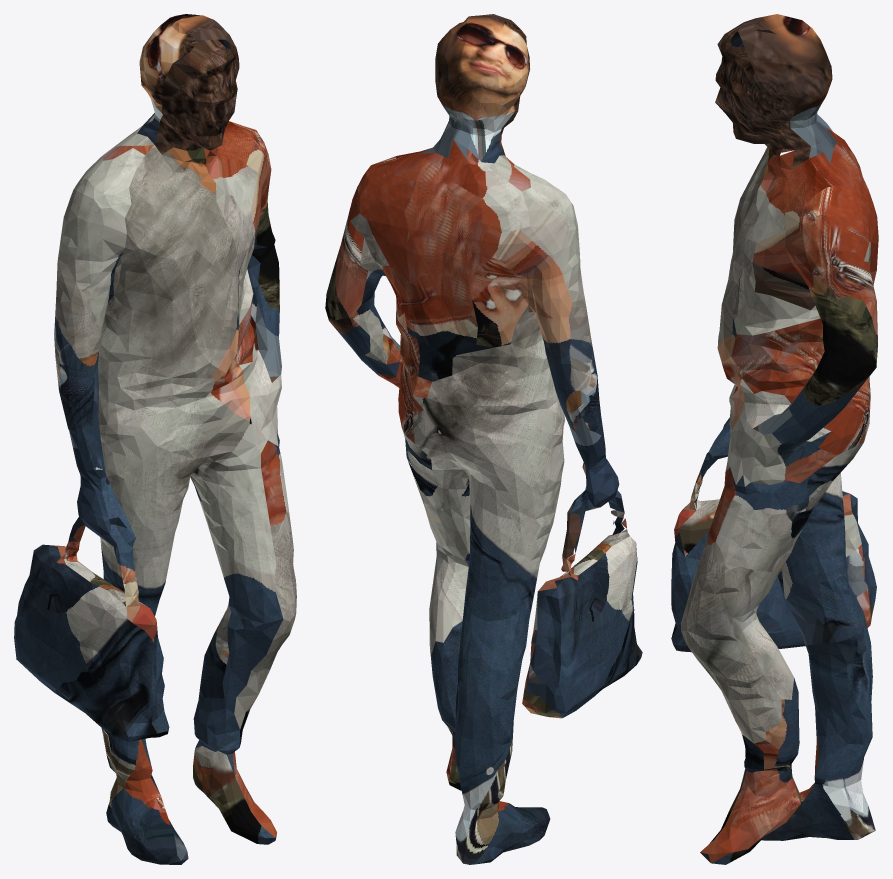
The picture shows the model from 3 angles, left to right: view 1: azimuth 30°, elevation 25°; view 2: azimuth 150°, elevation 25°; view 3: azimuth 270°, elevation 25°; orthographic projection. The views are drawn at different scales.
Parts seen in each view (by area): view 1: mn_k; view 2: mn_k; view 3: mn_k.
Boxes of the visible parts, x1=… form: mn_k: x1=14, y1=14, x2=296, y2=864; mn_k: x1=325, y1=14, x2=642, y2=864; mn_k: x1=671, y1=14, x2=878, y2=864.
Size of the model in its own units: 0.5538 by 1.73 by 0.3918.
Materials: 1 (1 with a texture image).
